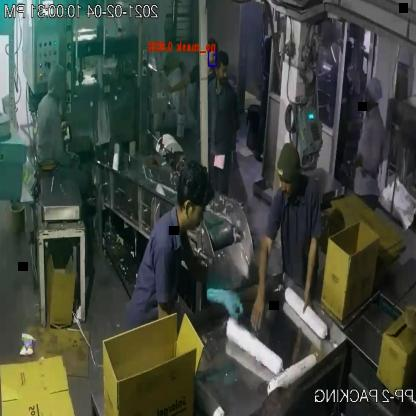glove: (192, 254, 247, 332)
no_glove: (246, 222, 274, 342), (298, 209, 326, 328), (159, 72, 191, 104), (402, 300, 416, 338)
